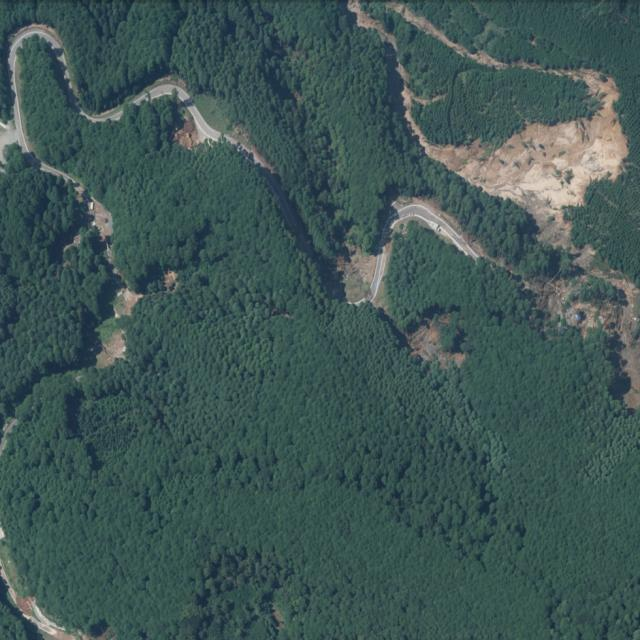landslide: (421, 81, 628, 269), (420, 69, 628, 221), (539, 269, 640, 409), (387, 1, 509, 68), (95, 294, 129, 344)
